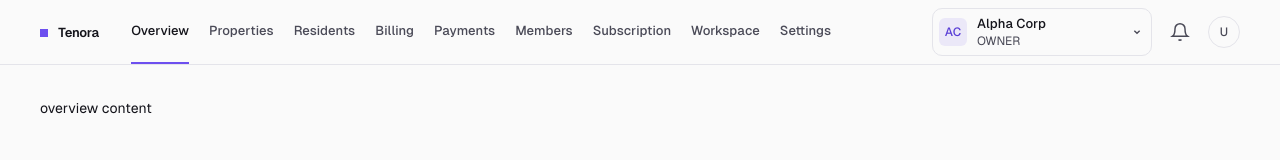
Test: AppShell — desktop › navigates between route stubs via the navbar links
The width and height of the screenshot is (1280, 160).
Click the link "Members" at (544, 30), box [515, 23, 573, 38]
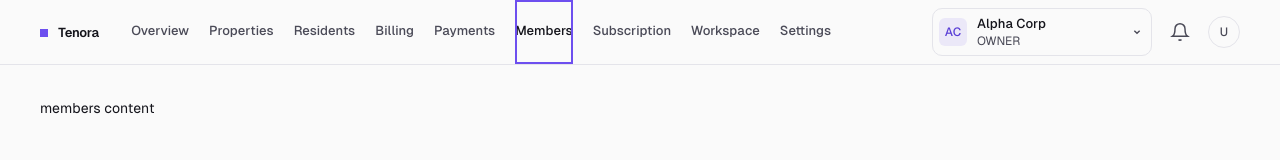
Expected: the text "members content" is shown, [40, 100, 154, 116]
